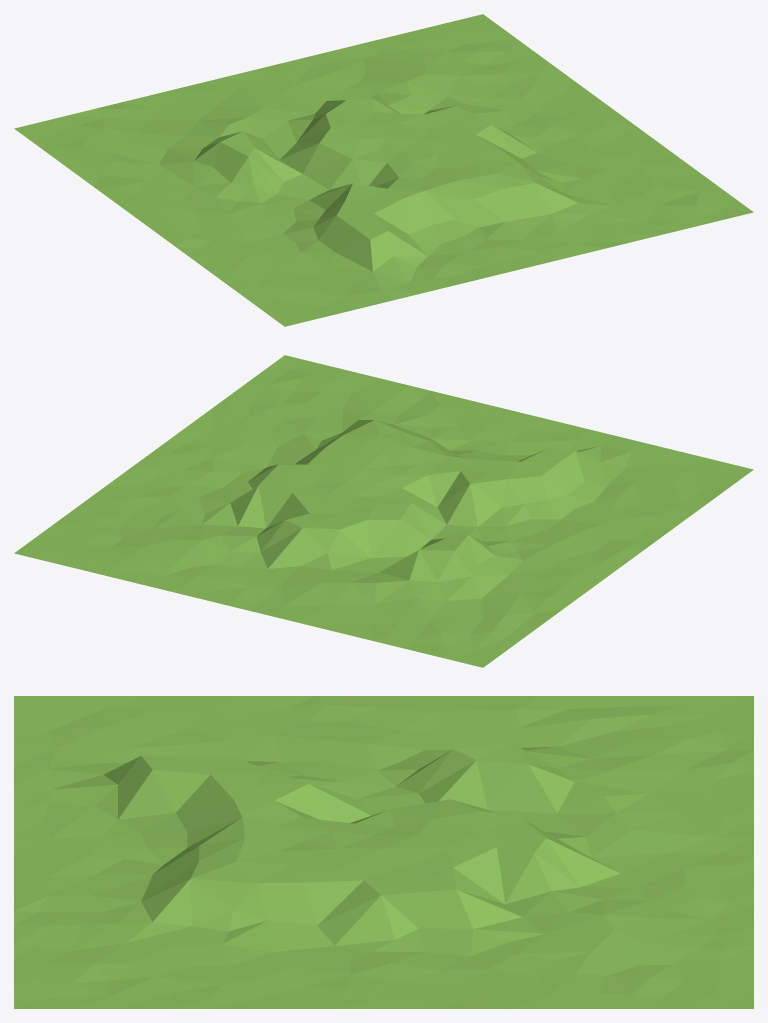
File: MT_Terrain_M_c_01_LOD.fbx
3 renders of one model, top to bottom at view 1: azimuth 30°, elevation 25°; view 2: azimuth 150°, elevation 25°; view 3: azimuth 270°, elevation 25°, orthographic. The views are drawn at different scales.
Visible parts, largest first — view 1: MT_Terrain_M_c_01_LOD0; view 2: MT_Terrain_M_c_01_LOD0; view 3: MT_Terrain_M_c_01_LOD0.
Part boxes in pixels (left/top/right/bottom): MT_Terrain_M_c_01_LOD0: left=14, top=14, right=753, bottom=326; MT_Terrain_M_c_01_LOD0: left=14, top=355, right=753, bottom=667; MT_Terrain_M_c_01_LOD0: left=14, top=696, right=753, bottom=1008.
Size of what is drawn, in the model's own units: 5000 by 259 by 5000.
